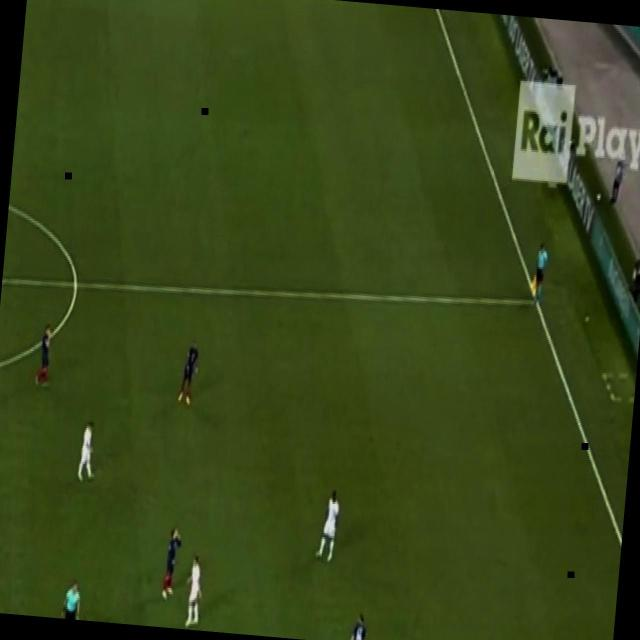ball: (593, 192, 603, 204)
player-white: (312, 488, 342, 565), (181, 551, 206, 631), (160, 526, 184, 604), (176, 339, 202, 409), (76, 418, 102, 485), (34, 322, 56, 392), (532, 240, 550, 307), (59, 577, 84, 620), (346, 611, 369, 640)
